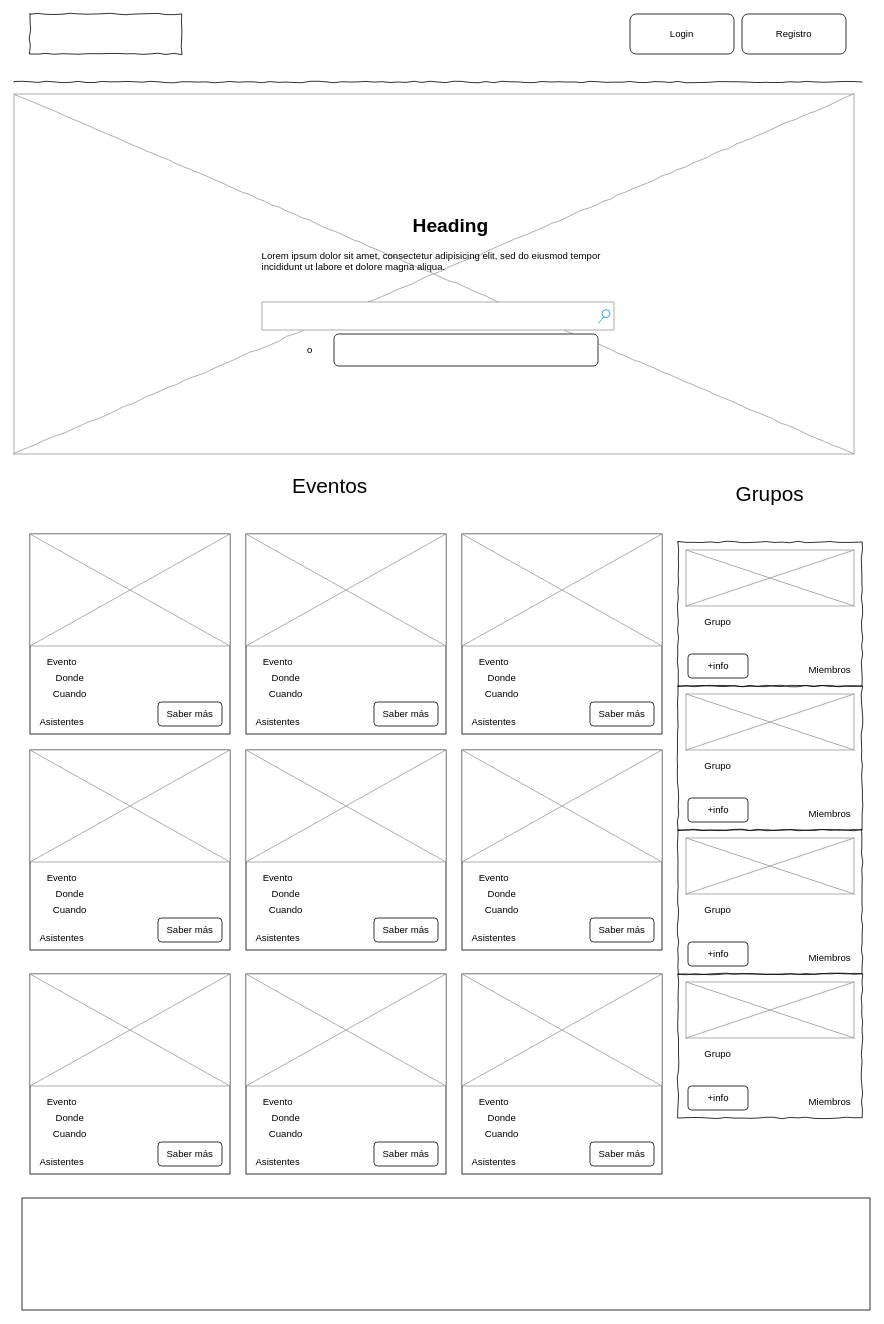
Image size: 884x1324. Some labels were removed from this diagram. The shapes that lost their labels are listed below. From the top down, each one's box as (x1, y1, x2, y2) in pixels, then its label:
(29, 13, 182, 54): LOGO
(261, 301, 614, 330): Search
(333, 333, 598, 366): Crea tu grupo
(21, 1197, 870, 1310): Footer
